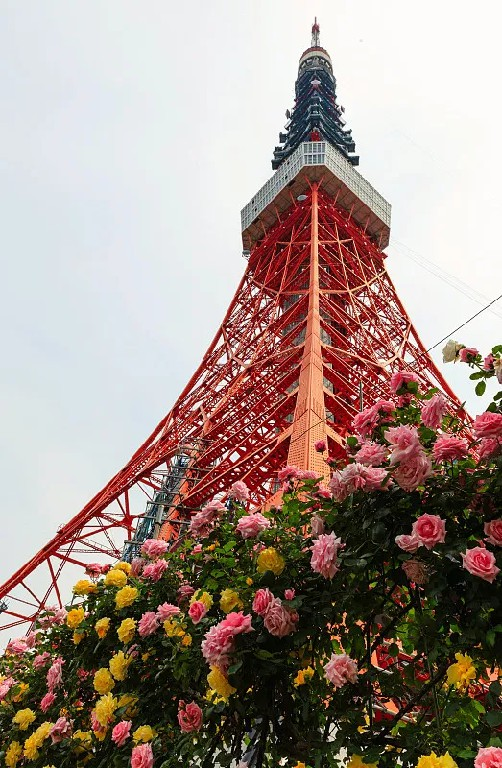Tokyo: (3, 13, 475, 642)
